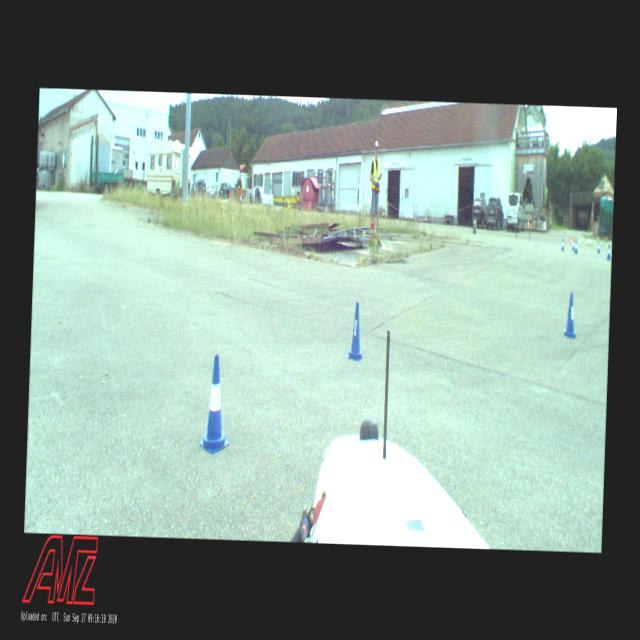blue_cone: (200, 354, 232, 454), (346, 302, 365, 361), (563, 292, 577, 338), (606, 243, 611, 260), (596, 241, 600, 252), (574, 239, 577, 253), (561, 238, 564, 251), (572, 238, 574, 250)
